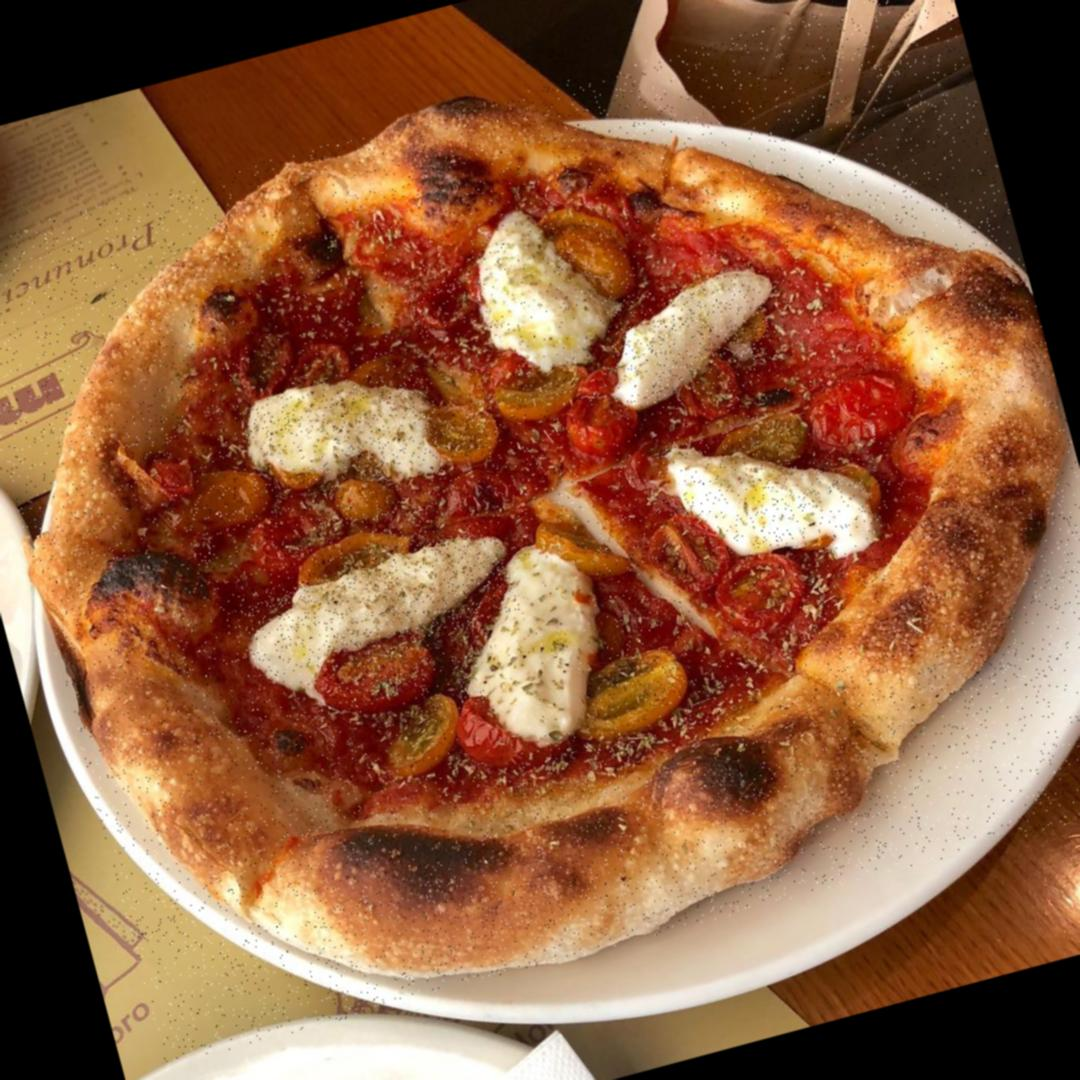Cheese: (237, 524, 523, 682), (454, 534, 624, 751), (672, 403, 876, 573), (238, 356, 450, 505), (468, 203, 616, 391), (601, 264, 780, 406)
Pizza: (0, 0, 1080, 1067)
Tomatoes: (176, 462, 326, 596), (684, 548, 822, 652), (305, 626, 440, 719), (803, 372, 924, 458), (592, 648, 707, 737), (490, 346, 595, 440), (552, 210, 630, 294), (671, 362, 750, 434), (404, 266, 478, 339), (429, 398, 506, 464), (562, 392, 634, 462), (459, 701, 533, 766), (332, 471, 396, 529)
